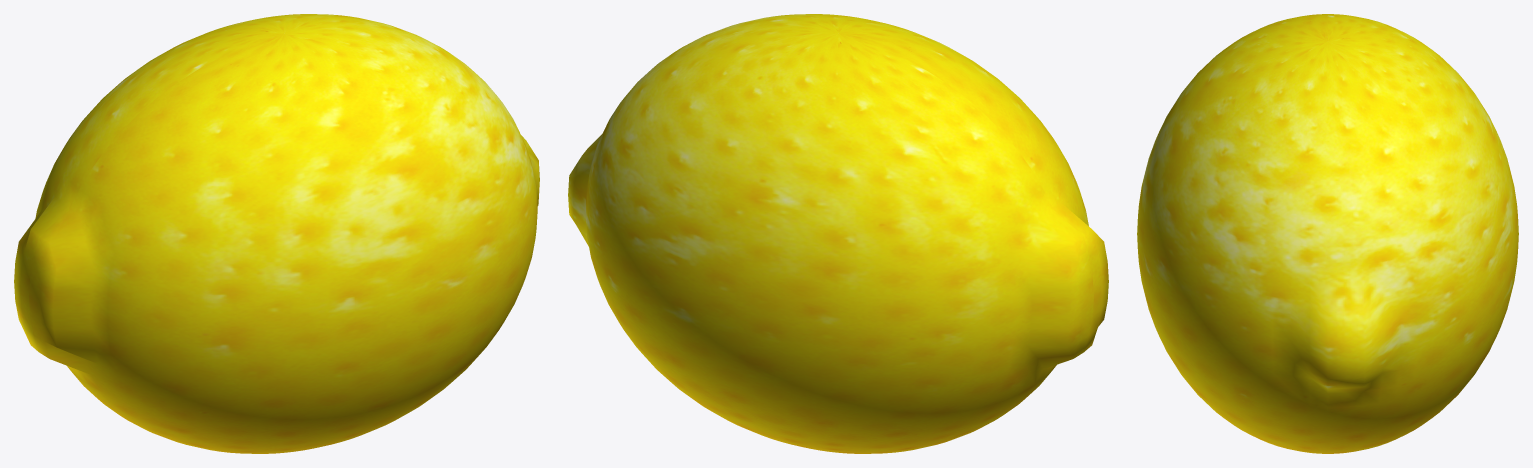
Rendered from Lemon.fbx.
3 renders of one model, left to right at view 1: azimuth 30°, elevation 25°; view 2: azimuth 150°, elevation 25°; view 3: azimuth 270°, elevation 25°, orthographic. The views are drawn at different scales.
Parts seen in each view (by area): view 1: Sphere; view 2: Sphere; view 3: Sphere.
Part boxes in pixels (x1=…): Sphere: x1=14, y1=14, x2=539, y2=453; Sphere: x1=568, y1=14, x2=1108, y2=453; Sphere: x1=1137, y1=14, x2=1518, y2=453.
Size of the model in its own units: 464 by 348 by 314.
